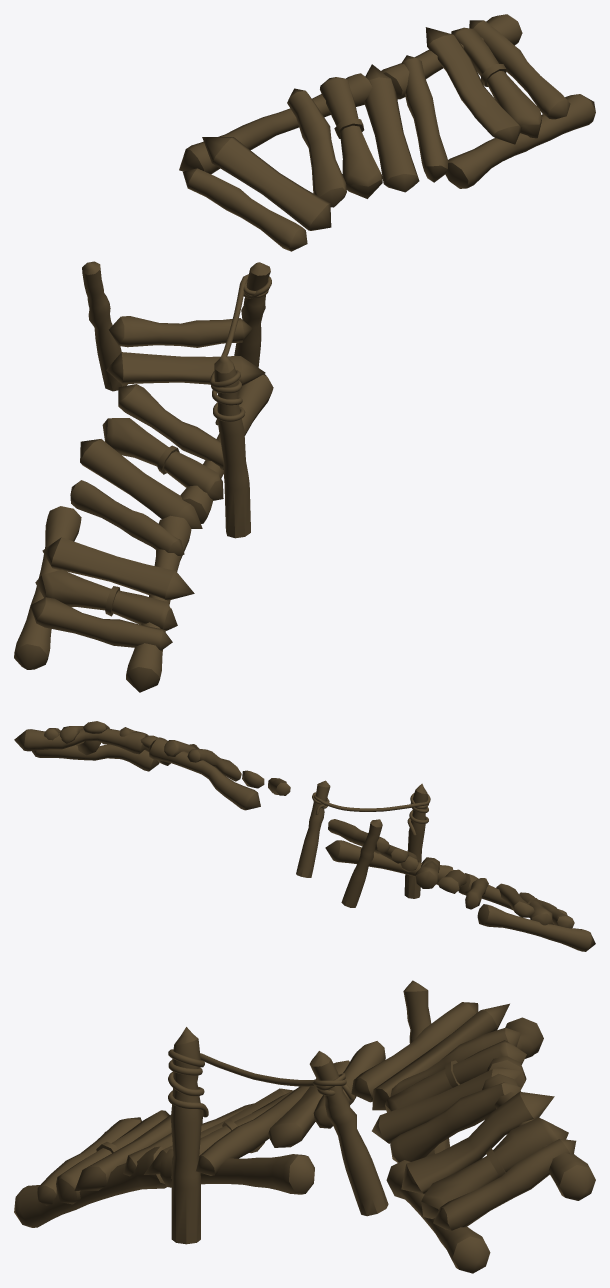
Rendered from Midground Walkways.fbx.
3 renders of one model, top to bottom at view 1: azimuth 30°, elevation 25°; view 2: azimuth 150°, elevation 25°; view 3: azimuth 270°, elevation 25°, orthographic. The views are drawn at different scales.
Parts seen in each view (by area): view 1: sunken_walkway_geo, sunken_walkway_geo1, connecting_rope_geo; view 2: sunken_walkway_geo, sunken_walkway_geo1, connecting_rope_geo; view 3: sunken_walkway_geo1, sunken_walkway_geo, connecting_rope_geo.
Part boxes in pixels (left/top/right/bottom): sunken_walkway_geo: left=14, top=261, right=273, bottom=692; sunken_walkway_geo1: left=179, top=14, right=595, bottom=251; connecting_rope_geo: left=210, top=274, right=271, bottom=425; sunken_walkway_geo: left=296, top=780, right=595, bottom=951; sunken_walkway_geo1: left=14, top=721, right=290, bottom=810; connecting_rope_geo: left=312, top=792, right=430, bottom=835; sunken_walkway_geo1: left=351, top=1002, right=595, bottom=1273; sunken_walkway_geo: left=14, top=980, right=449, bottom=1244; connecting_rope_geo: left=168, top=1049, right=354, bottom=1117.
Size of the model in its own units: 21.45 by 10.21 by 13.03.
